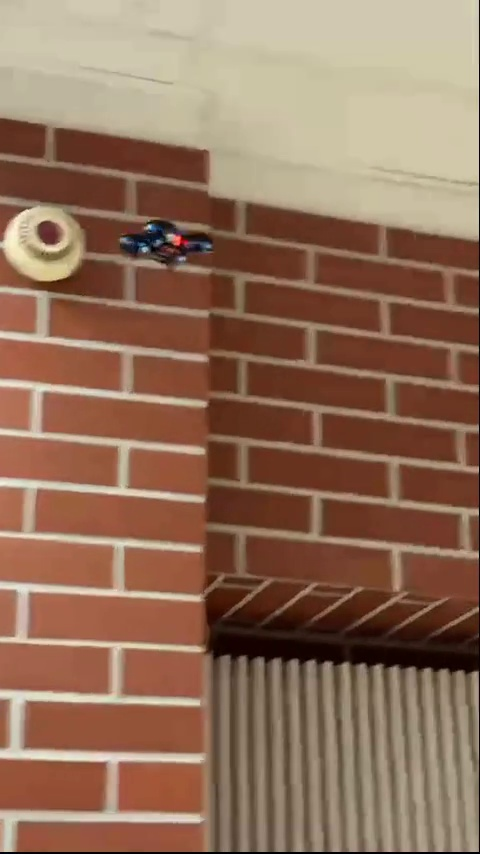drone: (122, 213, 218, 270)
